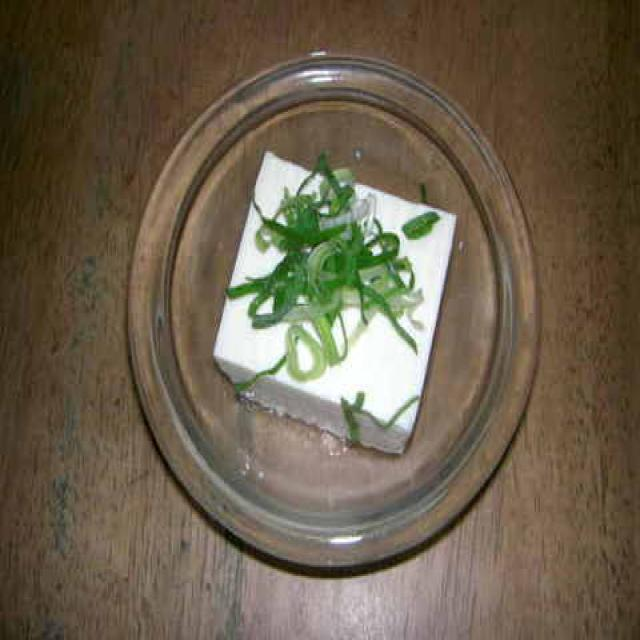豆腐料理: (212, 149, 453, 480)
